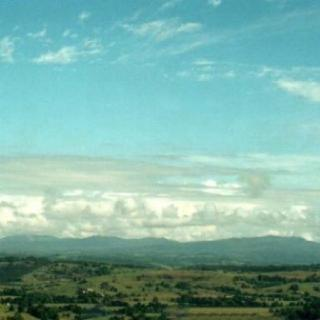Stratus: (0, 6, 320, 248)
